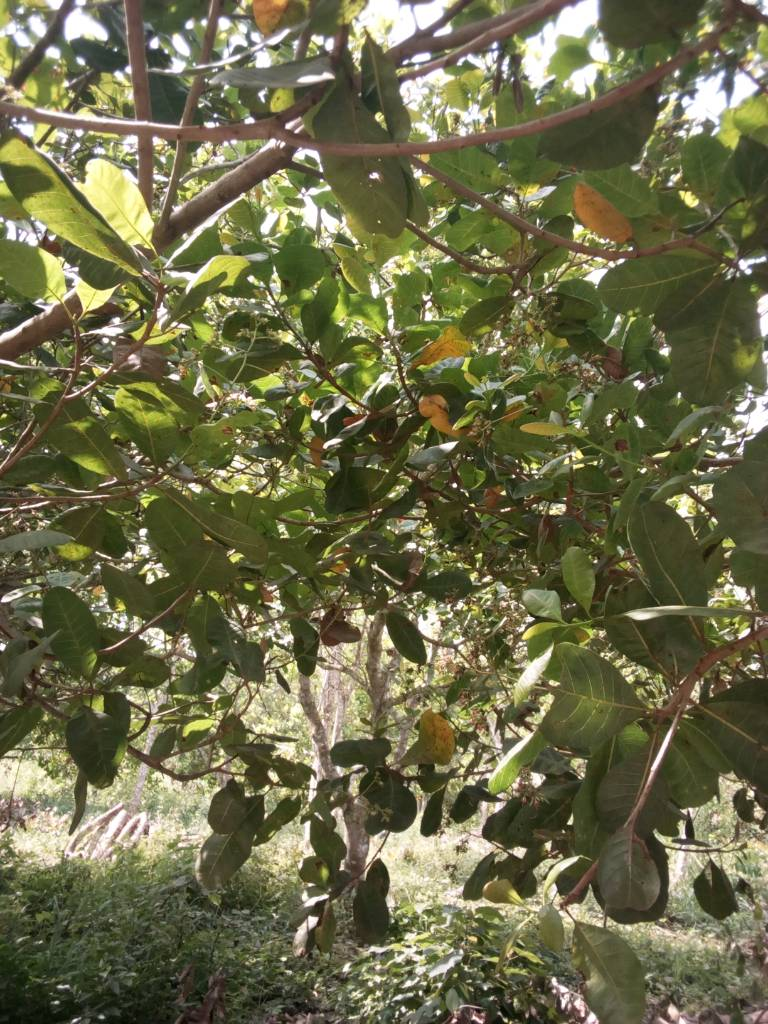Alternariose: (571, 180, 635, 249), (410, 711, 458, 769), (418, 327, 474, 366)
